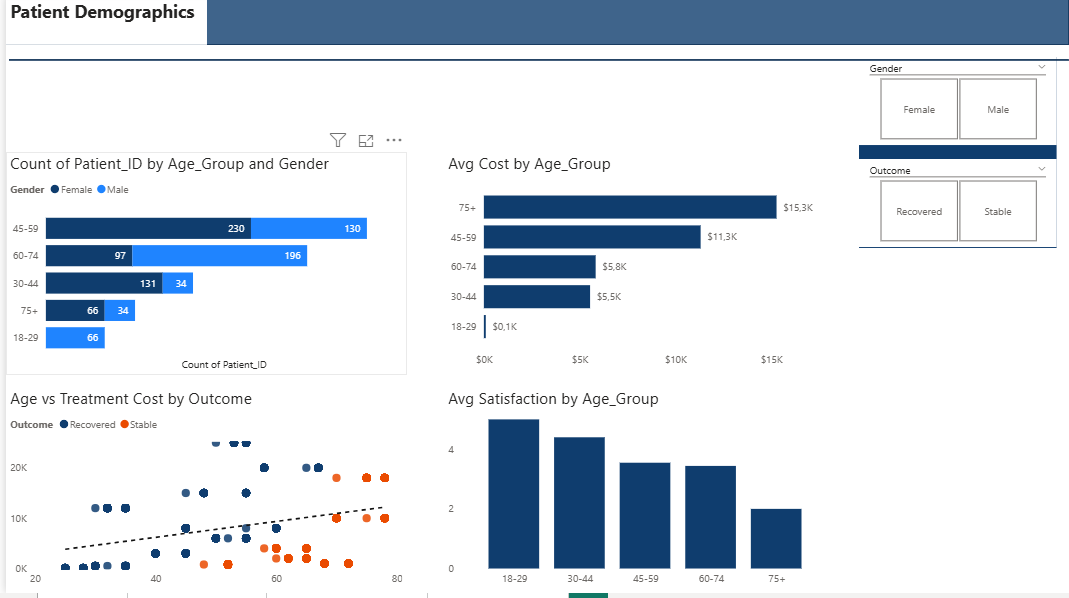

Layout of this report page (visuals, bound fields, positions):
{"tool":"powerbi","page":{"name":"Pateint Demographics","canvas":[1280,720],"ordinal":2},"visuals":[{"type":"shape","box":[1027.5,74.4,237.9,229.9],"z":0},{"type":"shape","box":[0,0,1280,60],"z":1000},{"type":"textbox","box":[0,0,241.9,59.8],"z":2000},{"type":"slicer","fields":{"Values":["hospital data analysis.Gender"]},"box":[1027.5,74.4,237.9,106.3],"z":3000},{"type":"slicer","fields":{"Values":["hospital data analysis.Outcome"]},"box":[1027.5,198,237.9,106.3],"z":4000},{"type":"barChart","fields":{"Category":["hospital data analysis.Age_Group"],"Y":["CountNonNull(hospital data analysis.Patient_ID)"],"Series":["hospital data analysis.Gender"]},"box":[0,188.7,482.5,268.5],"z":5000},{"type":"clusteredBarChart","fields":{"Category":["hospital data analysis.Age_Group"],"Y":["_Measures.Avg Cost"]},"box":[527.7,188.7,469.2,268.5],"z":6000},{"type":"scatterChart","title":"Age vs Treatment Cost by Outcome","fields":{"X":["Sum(hospital data analysis.Age)"],"Y":["Sum(hospital data analysis.Cost)"],"Category":["hospital data analysis.Patient_ID"],"Series":["hospital data analysis.Outcome"]},"box":[0,471.9,482.5,248.6],"z":7000},{"type":"clusteredColumnChart","fields":{"Y":["_Measures.Avg Satisfaction"],"Category":["hospital data analysis.Age_Group"]},"box":[527.7,471.9,469.2,248.6],"z":8000},{"type":"shape","box":[4,59.9,1276,36],"z":9000}]}

Visuals, with their boxes in screenshot pixels (x1, y1, x2, y2), scaled from the page's 1280x720 canvas onto the 1069x598 screenshot:
shape: BBox(858, 62, 1057, 253)
shape: BBox(0, 0, 1068, 50)
textbox: BBox(0, 0, 202, 50)
slicer - hospital data analysis.Gender: BBox(858, 62, 1057, 150)
slicer - hospital data analysis.Outcome: BBox(858, 164, 1057, 253)
barChart - hospital data analysis.Age_Group x CountNonNull(hospital data analysis.Patient_ID): BBox(0, 157, 403, 380)
clusteredBarChart - hospital data analysis.Age_Group x _Measures.Avg Cost: BBox(441, 157, 833, 380)
"Age vs Treatment Cost by Outcome" scatterChart: BBox(0, 392, 403, 597)
clusteredColumnChart - _Measures.Avg Satisfaction x hospital data analysis.Age_Group: BBox(441, 392, 833, 597)
shape: BBox(3, 50, 1068, 80)
